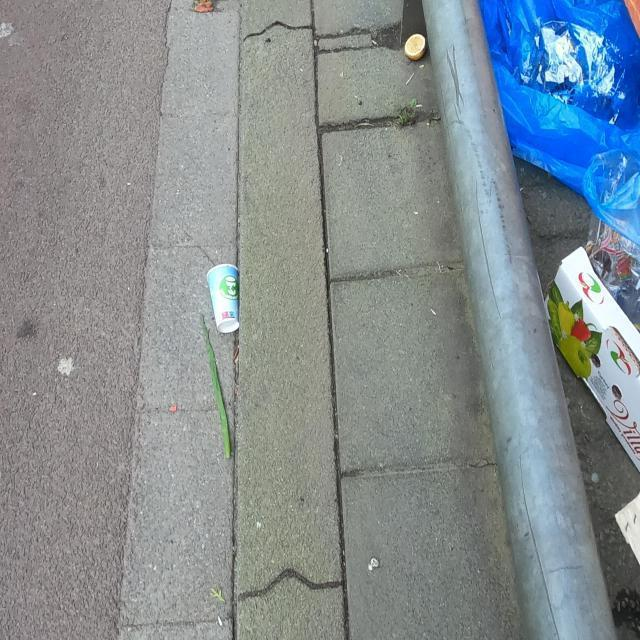Cup: (206, 262, 240, 334)
